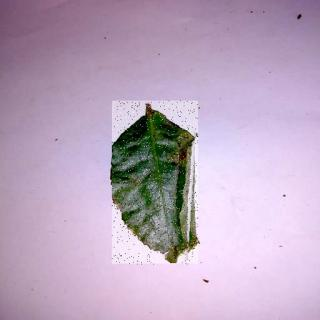Bird Eye Spot: (113, 102, 199, 266)
